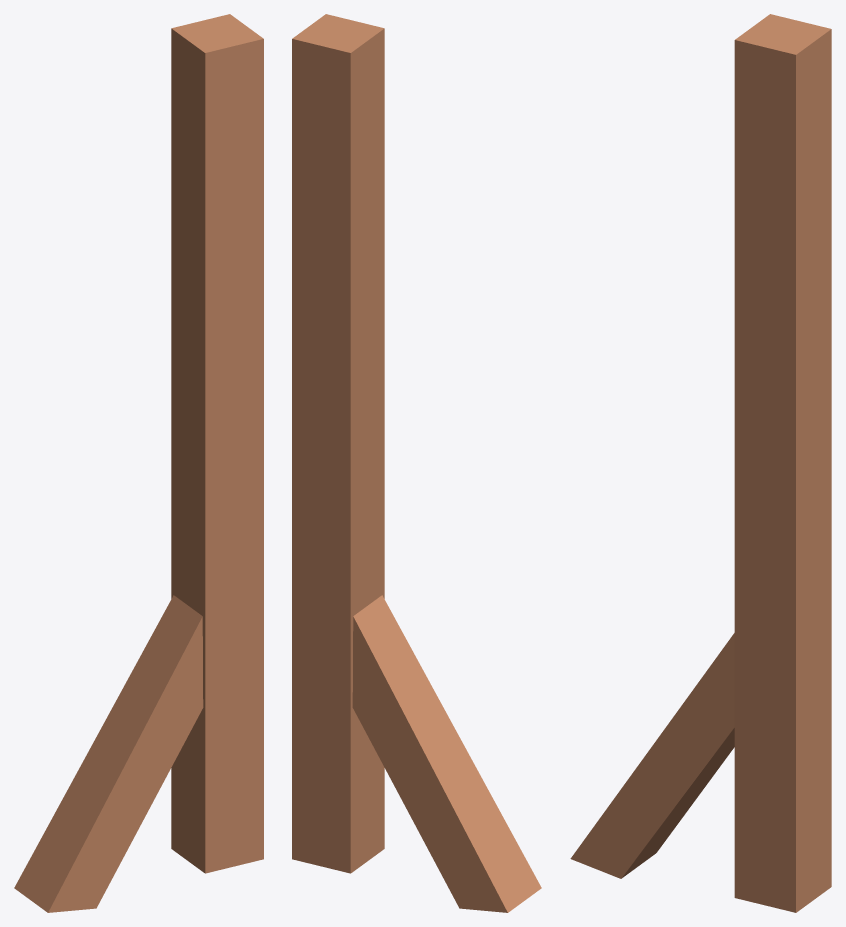
Rendered from Wood_2.fbx.
3 views of the same model, side by side, from view 1: azimuth 30°, elevation 25°; view 2: azimuth 150°, elevation 25°; view 3: azimuth 330°, elevation 25° (orthographic). The views are drawn at different scales.
Parts seen in each view (by area): view 1: Cube.024; view 2: Cube.024; view 3: Cube.024.
Boxes of the visible parts, left/top/right/bottom form: Cube.024: left=14, top=14, right=263, bottom=912; Cube.024: left=292, top=14, right=541, bottom=912; Cube.024: left=570, top=14, right=831, bottom=912.
Bounding box in the file's own units: 47.21 × 173 × 12.84.
